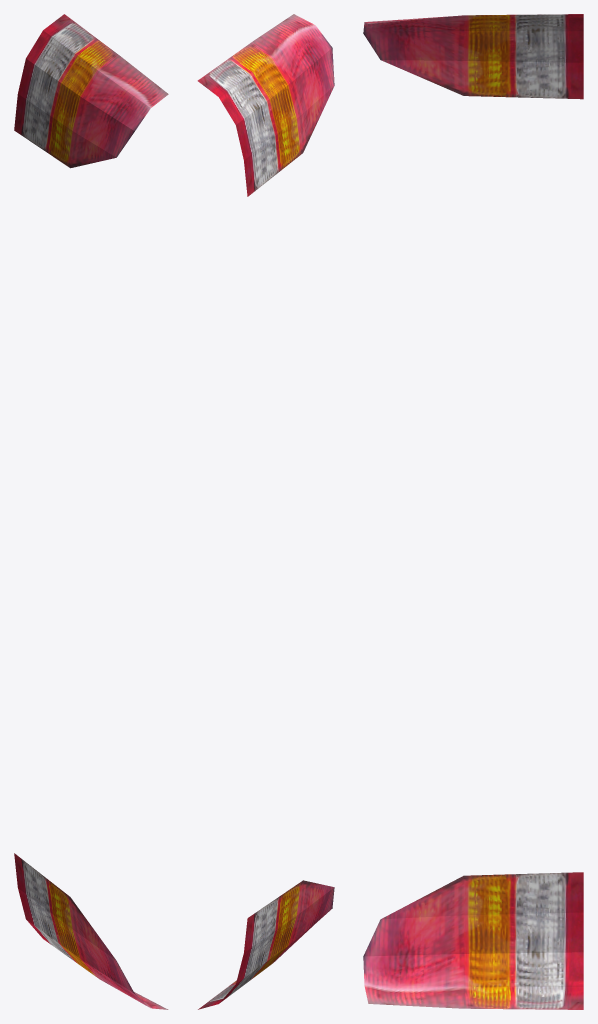
Rendered from brakes.obj.
3 views of the same model, side by side, from view 1: azimuth 30°, elevation 25°; view 2: azimuth 150°, elevation 25°; view 3: azimuth 270°, elevation 25° (orthographic). The views are drawn at different scales.
Parts seen in each view (by area): view 1: map; view 2: map; view 3: map.
Boxes of the visible parts, x1=… form: map: x1=14, y1=14, x2=168, y2=1009; map: x1=197, y1=14, x2=334, y2=1009; map: x1=363, y1=14, x2=583, y2=1009.
Bounding box in the file's own units: 0.1091 × 1.79 × 0.3593.
Materials: 1 (1 with a texture image).
